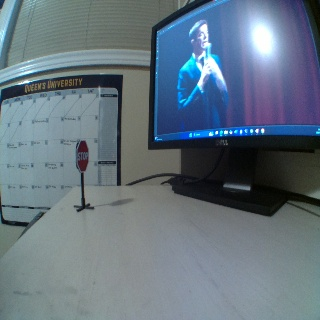sign_stop: (76, 139, 88, 172)
